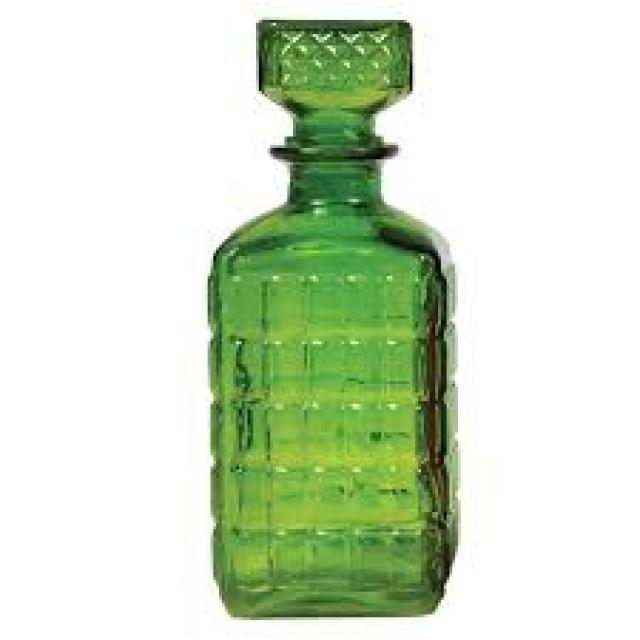glass: (205, 17, 464, 614)
